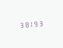eight: (23, 20, 27, 28)
nine: (33, 19, 37, 27)
one: (28, 20, 32, 27)
three: (38, 19, 42, 27), (18, 21, 22, 28)
